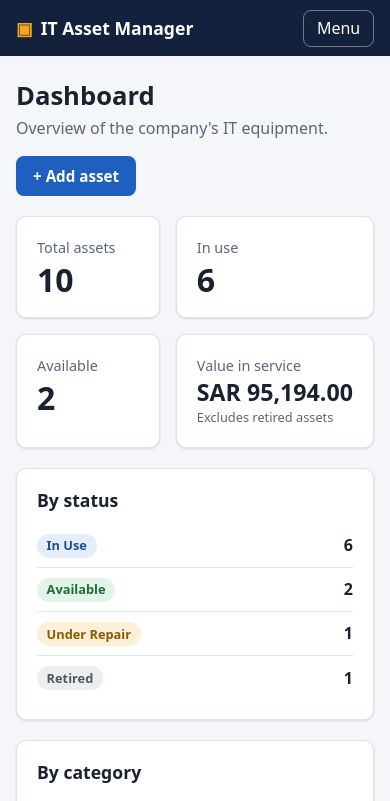
Test: menu and navigation › opens and closes the mobile menu
Step 1. Click the button "Menu" → (339, 28), box [303,10,374,47]
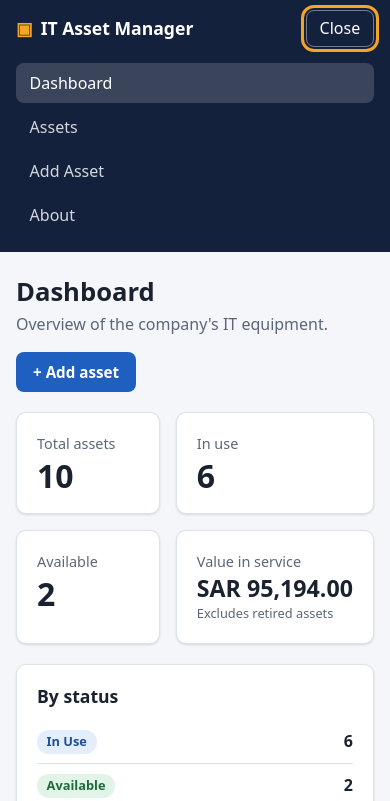
Check: the button "Close" is expanded, box [306,10,374,47]
